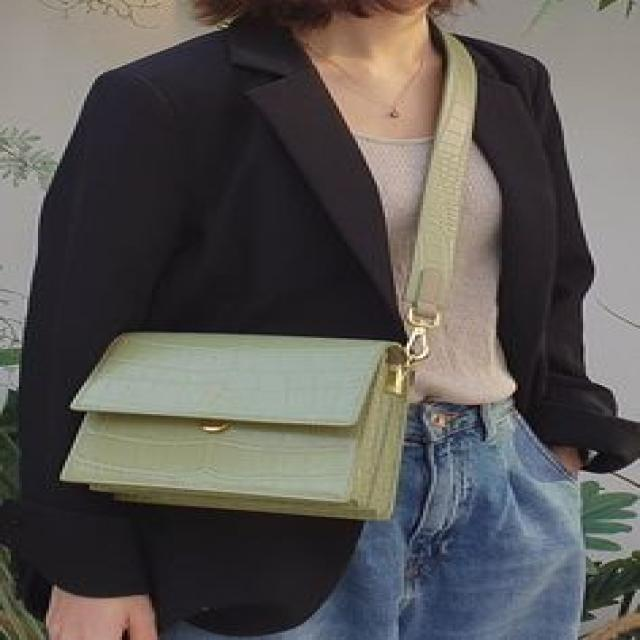handbag: (53, 322, 412, 520)
